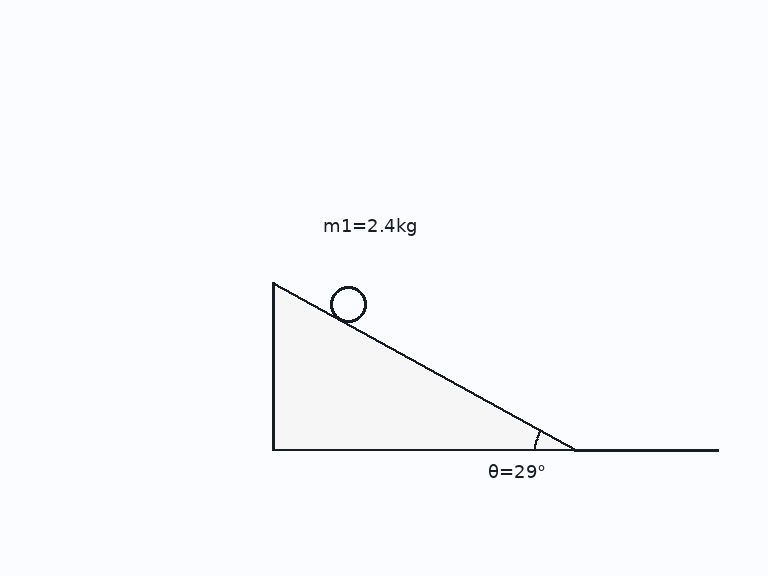ball: (328, 284, 368, 324)
ramp: (271, 281, 577, 452)
